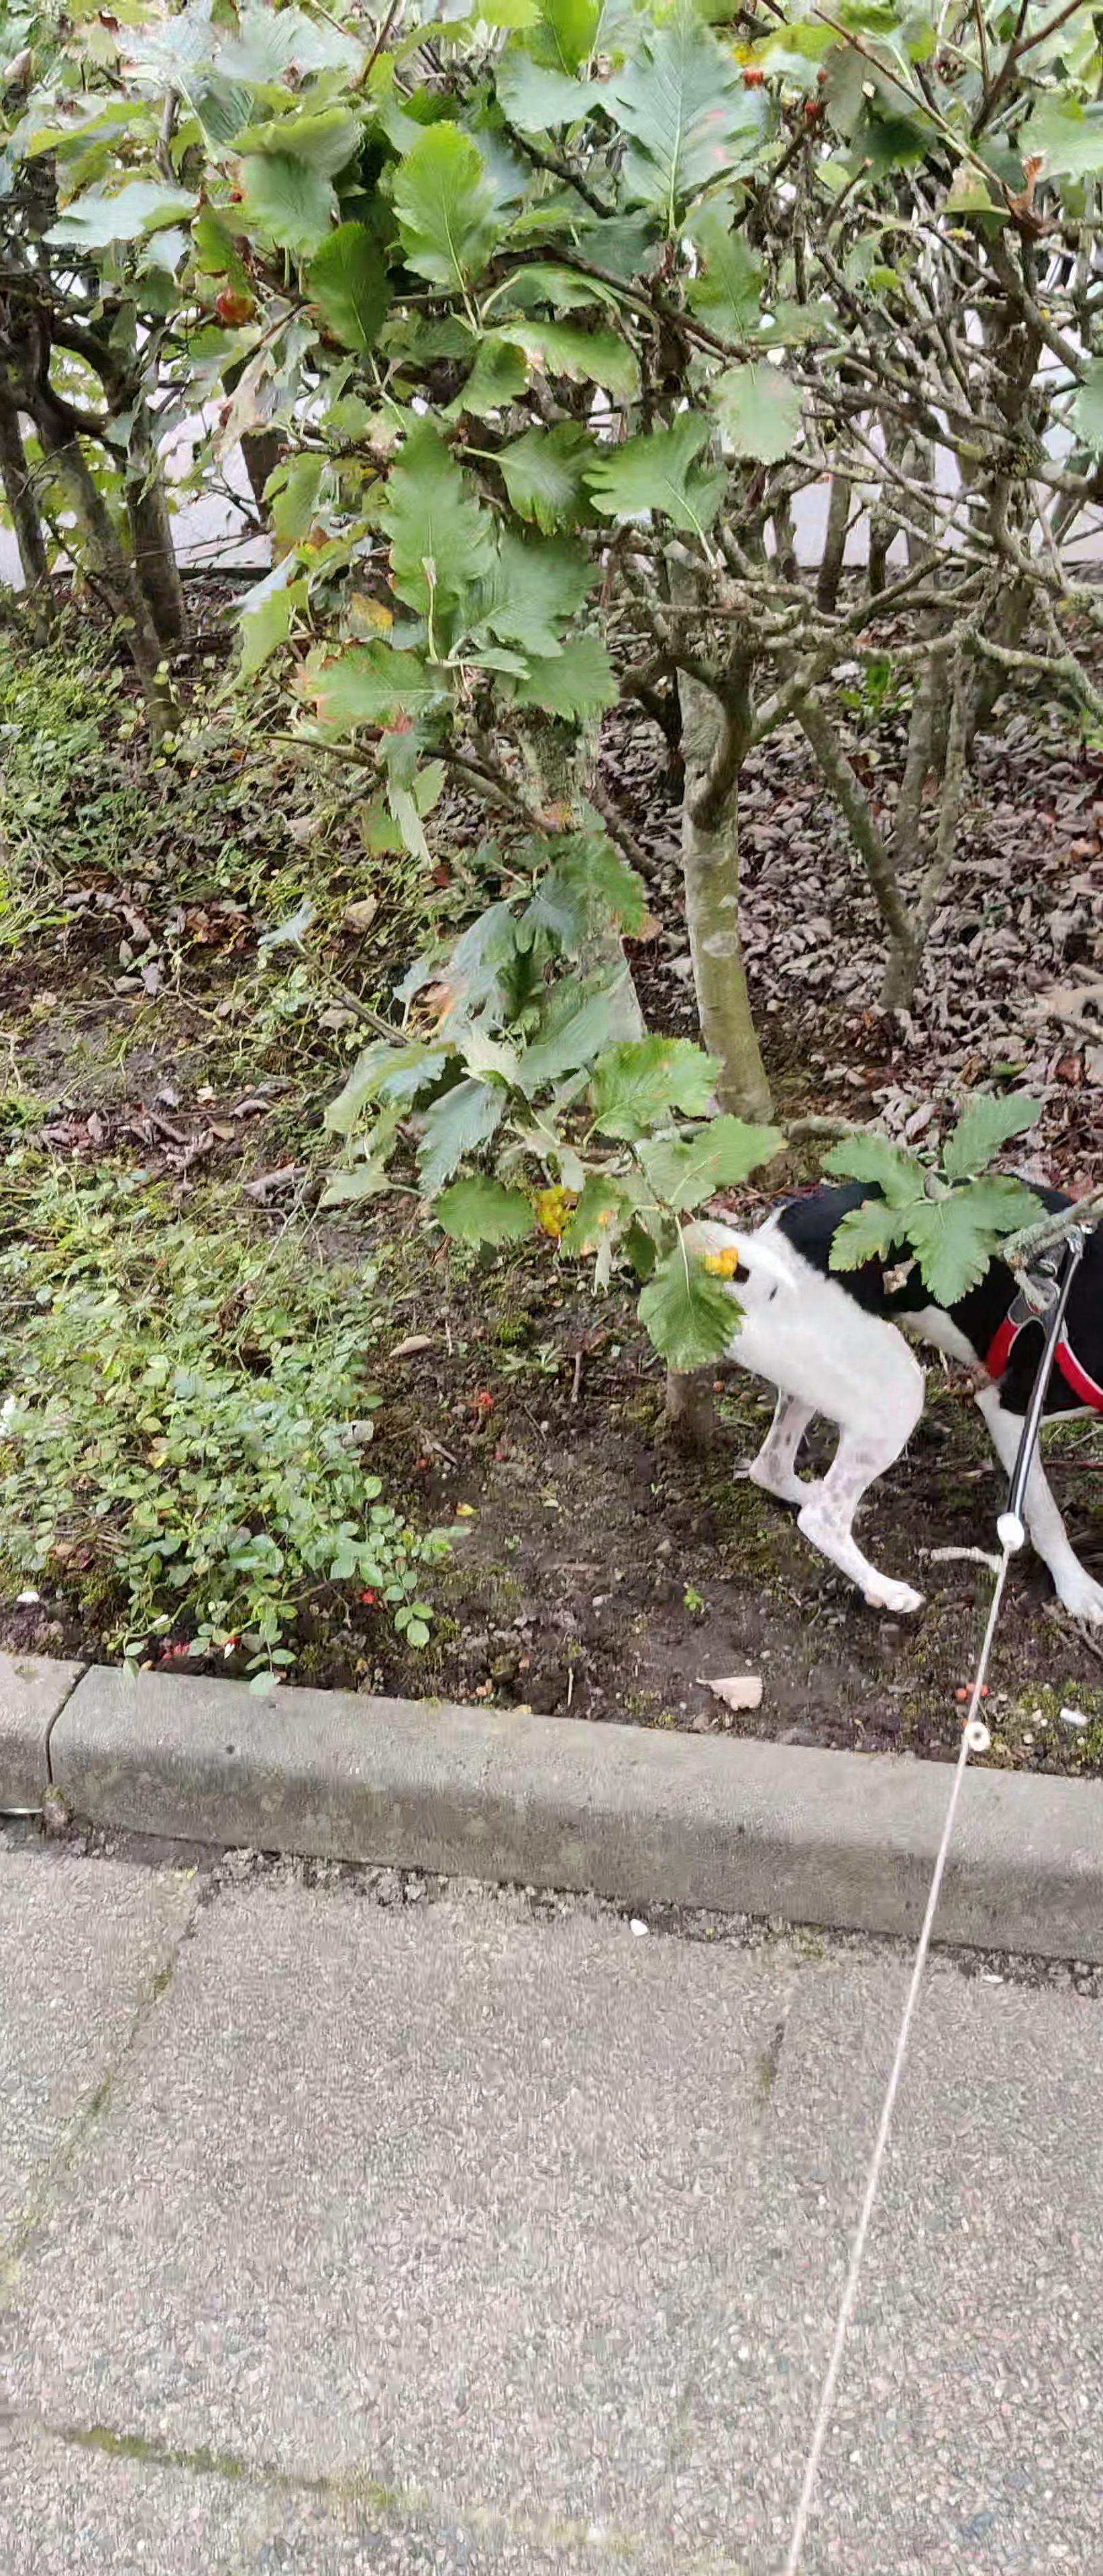Dog: (654, 1157, 1103, 1630)
